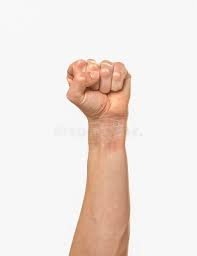fist: (63, 56, 135, 122)
